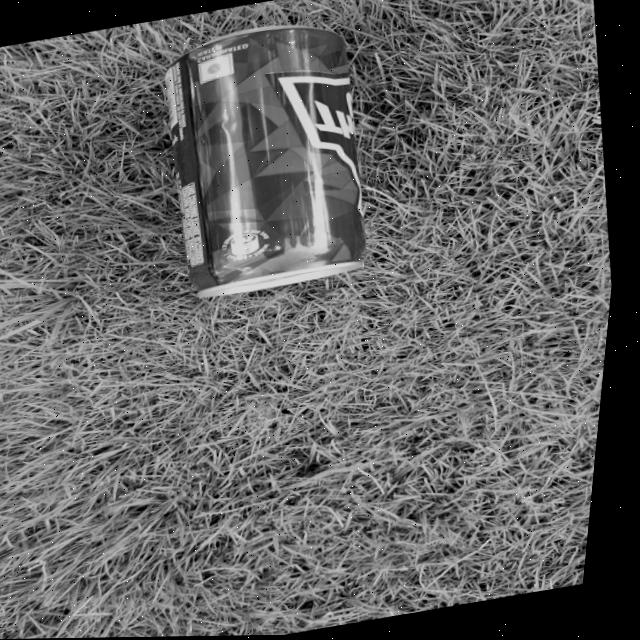Thums Up: (138, 9, 410, 313)
